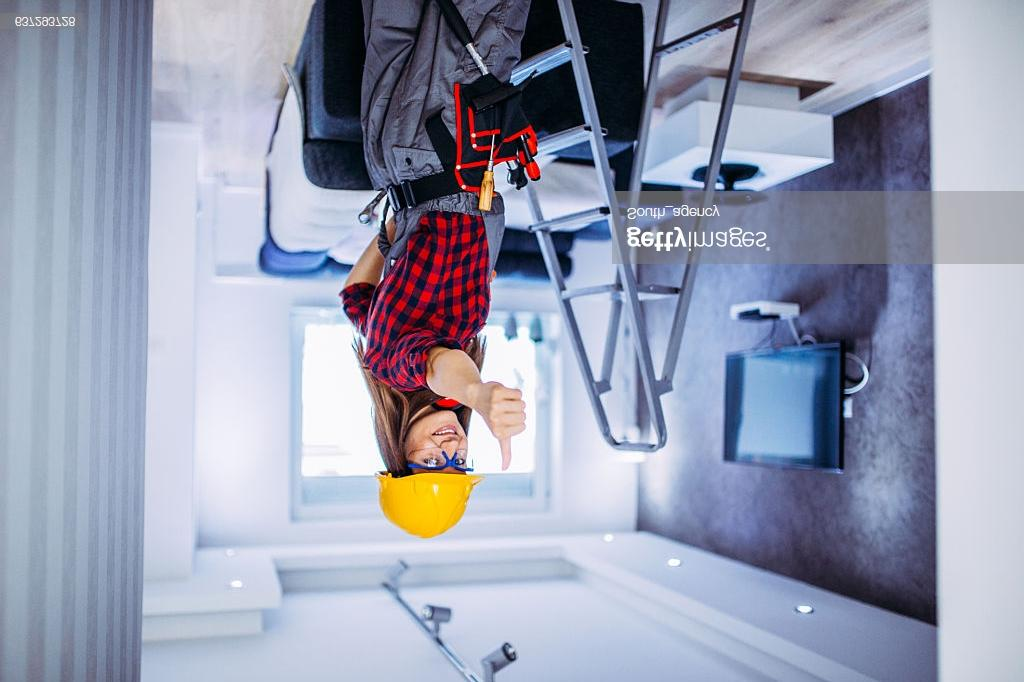thumbsdown: (487, 384, 526, 472)
